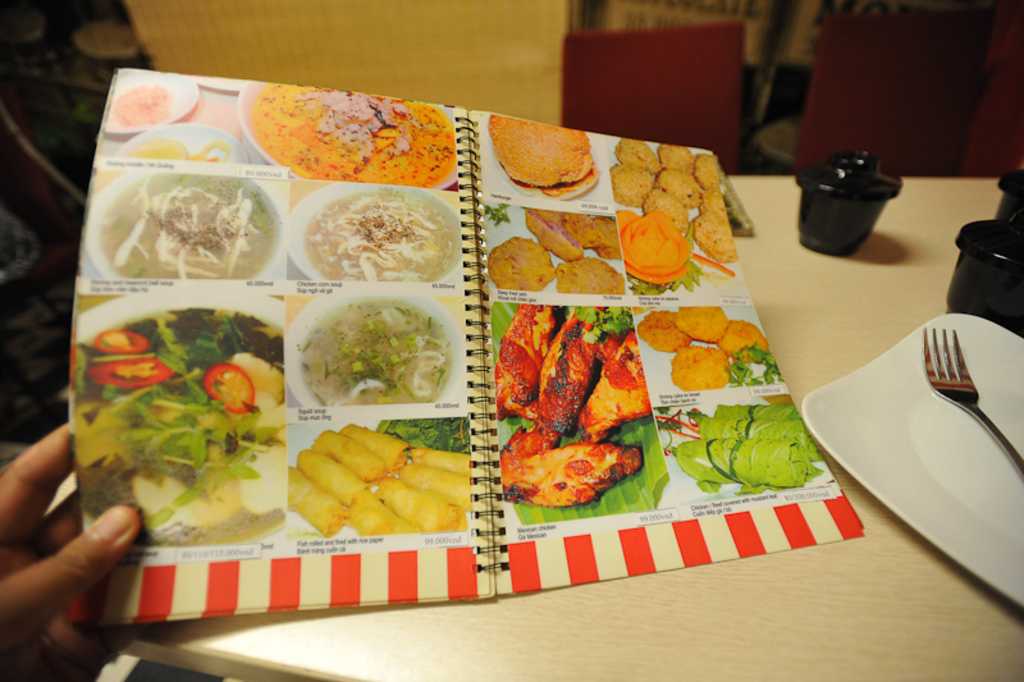sushi: (511, 431, 631, 508)
